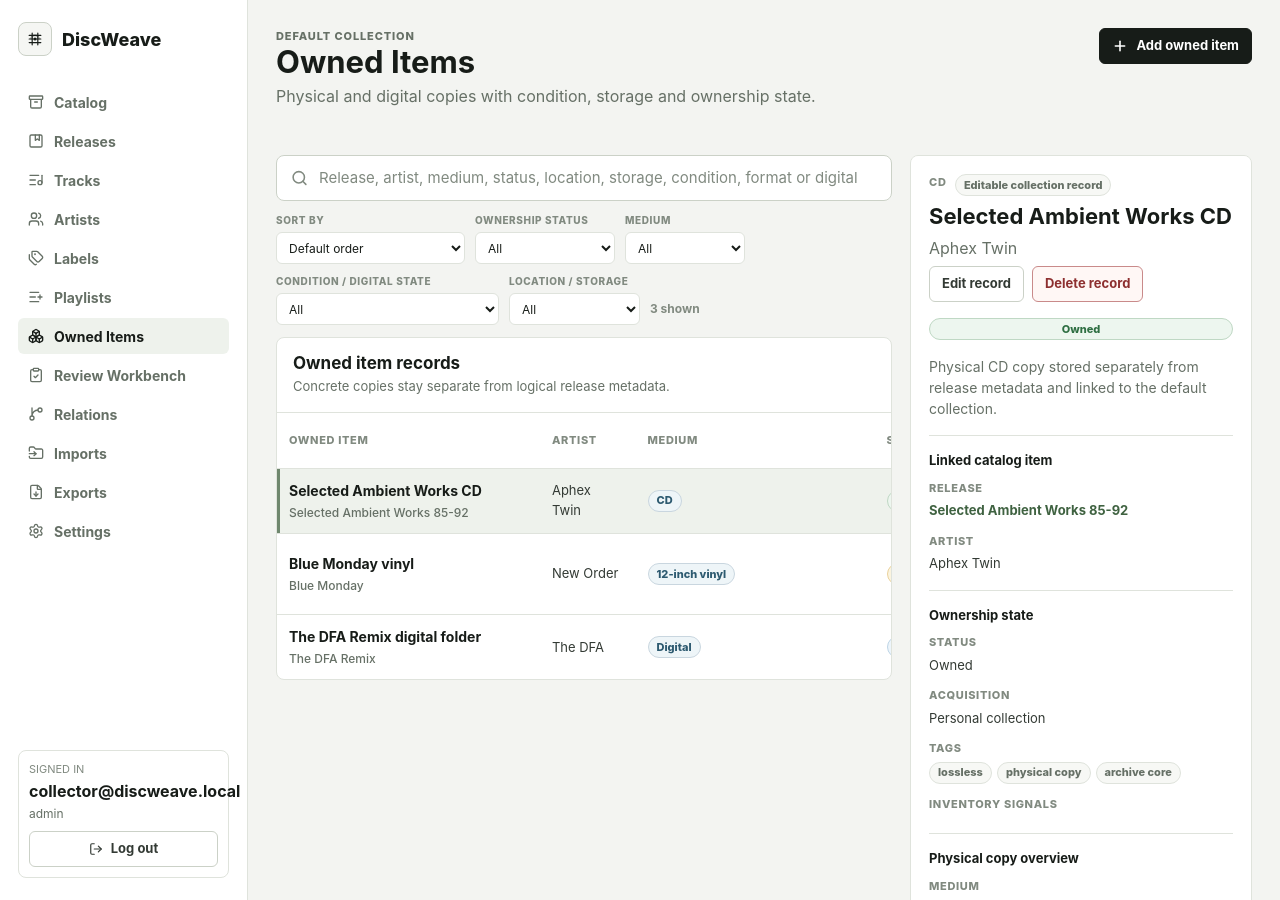
Test: App owned item and relation workspaces › renders physical owned item details with storage and condition
Click the button "Blue Monday vinyl Blue Monday".
click(408, 574)  # box [289,553,528,595]
(page scrolled)
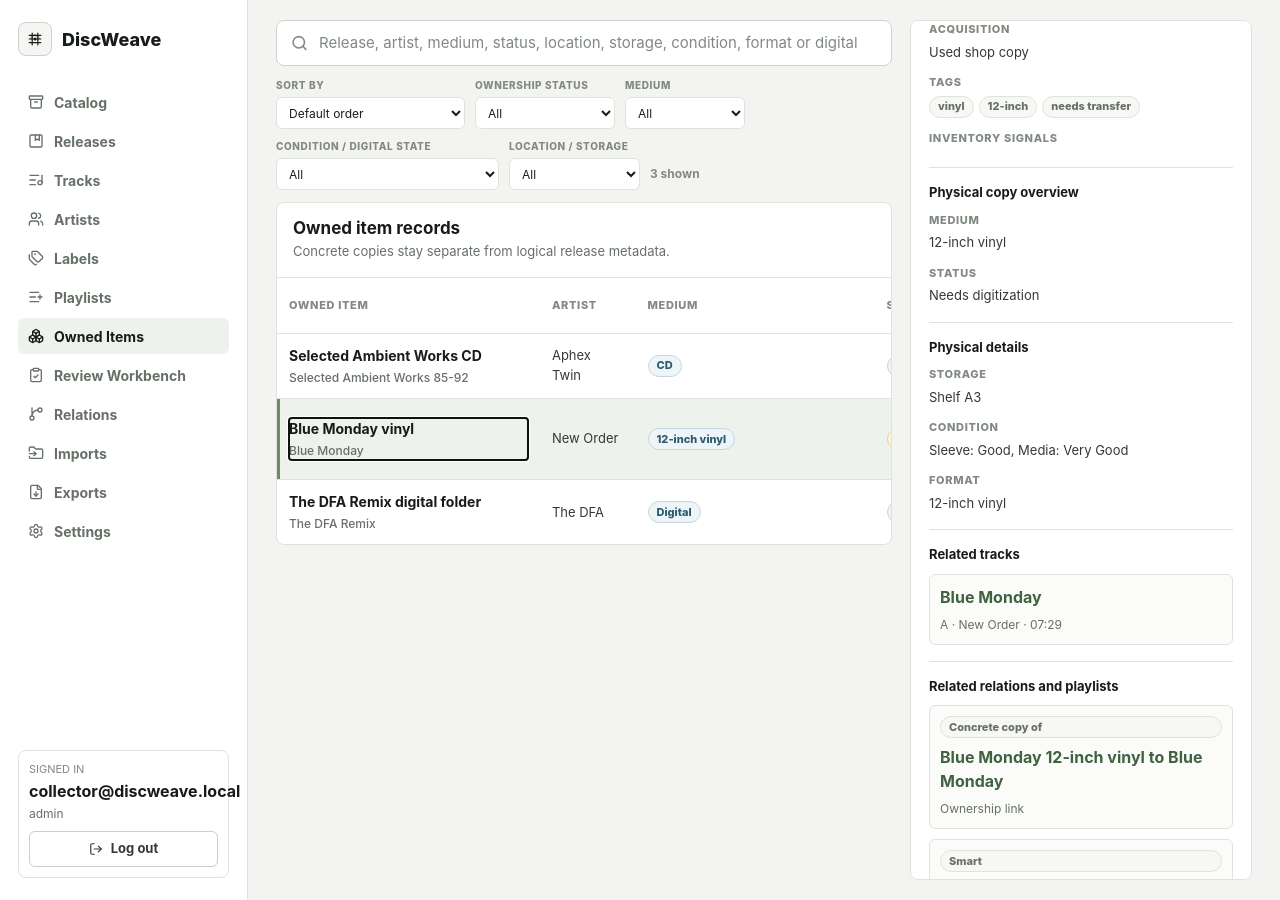
expect the heading "Physical details" is shown: met, box [929,339,1028,355]
expect the text "Shelf A3" is shown: met, box [929,389,981,405]
expect the text "Sleeve: Good, Media: Very Good" is shown: met, box [929,442,1128,458]
